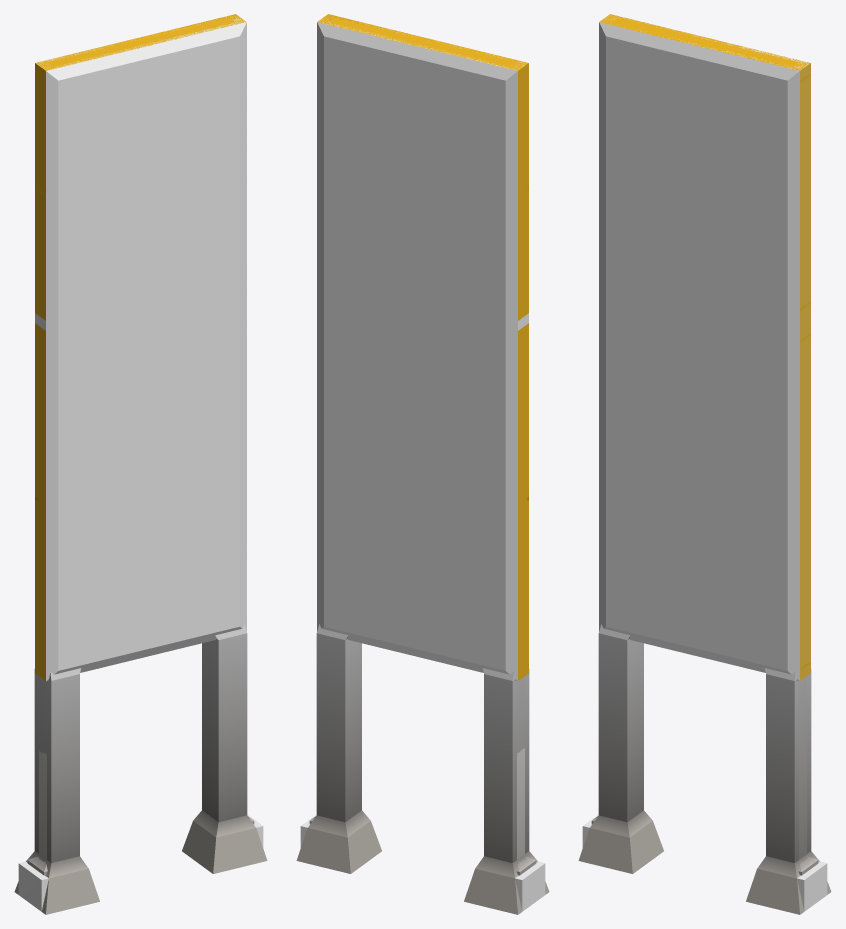
Rendered from s_fuel_sign_tyranos.dae.
3 renders of one model, left to right at view 1: azimuth 30°, elevation 25°; view 2: azimuth 150°, elevation 25°; view 3: azimuth 330°, elevation 25°, orthographic.
Parts seen in each view (by area): view 1: Colmesh_s_fuel_sign_tyranos-1, s_fuel_sign_tyranos_L1000, s_fuel_sign_tyranos_L200, s_fuel_sign_tyranos_L30; view 2: Colmesh_s_fuel_sign_tyranos-1, s_fuel_sign_tyranos_L1000, s_fuel_sign_tyranos_L200, s_fuel_sign_tyranos_L30; view 3: Colmesh_s_fuel_sign_tyranos-1, s_fuel_sign_tyranos_L30, s_fuel_sign_tyranos_L1000, s_fuel_sign_tyranos_L200.
Part boxes in pixels (box(x1,y1,x2,y2)): Colmesh_s_fuel_sign_tyranos-1: box(14, 15, 267, 914); s_fuel_sign_tyranos_L1000: box(19, 15, 262, 908); s_fuel_sign_tyranos_L200: box(18, 14, 263, 911); s_fuel_sign_tyranos_L30: box(35, 19, 241, 755); Colmesh_s_fuel_sign_tyranos-1: box(296, 17, 549, 914); s_fuel_sign_tyranos_L1000: box(301, 15, 544, 906); s_fuel_sign_tyranos_L200: box(300, 14, 545, 911); s_fuel_sign_tyranos_L30: box(321, 18, 526, 755); Colmesh_s_fuel_sign_tyranos-1: box(578, 14, 831, 914); s_fuel_sign_tyranos_L30: box(608, 16, 810, 859); s_fuel_sign_tyranos_L1000: box(583, 15, 826, 901); s_fuel_sign_tyranos_L200: box(582, 14, 827, 911).
Bounding box in the file's own units: 4.64 × 1.14 × 16.67.
